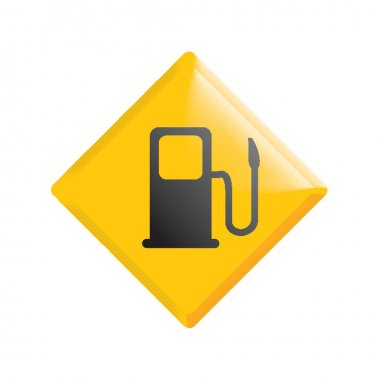fuel-station: (115, 90, 269, 303)
